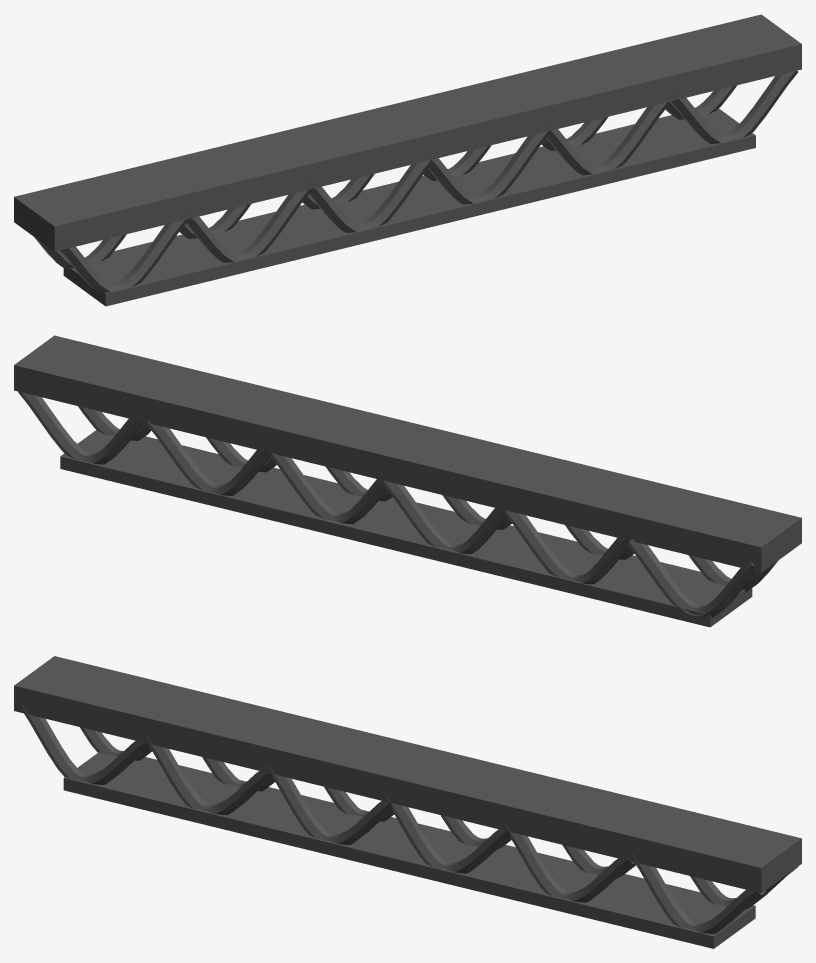
The model's file is Obstaculo 1.glb.
The picture shows the model from 3 angles, top to bottom: view 1: azimuth 30°, elevation 25°; view 2: azimuth 150°, elevation 25°; view 3: azimuth 330°, elevation 25°; orthographic projection.
Visible parts, largest first — view 1: mesh_id27, mesh_id64, mesh_id37, mesh_id43, mesh_id44, mesh_id50, mesh_id62, mesh_id56, mesh_id95, mesh_id107, mesh_id119, mesh_id101 (+2 smaller); view 2: mesh_id27, mesh_id64, mesh_id95, mesh_id113, mesh_id101, mesh_id107, mesh_id119, mesh_id125, mesh_id37, mesh_id43, mesh_id62, mesh_id44 (+2 smaller); view 3: mesh_id27, mesh_id64, mesh_id43, mesh_id37, mesh_id44, mesh_id62, mesh_id50, mesh_id56, mesh_id107, mesh_id125, mesh_id113, mesh_id101 (+2 smaller).
Part boxes in pixels (left/top/right/bottom): mesh_id27: left=14, top=14, right=801, bottom=251; mesh_id64: left=63, top=109, right=755, bottom=306; mesh_id37: left=60, top=218, right=187, bottom=294; mesh_id43: left=670, top=69, right=797, bottom=143; mesh_id44: left=186, top=188, right=310, bottom=262; mesh_id50: left=308, top=158, right=431, bottom=232; mesh_id62: left=544, top=101, right=669, bottom=175; mesh_id56: left=425, top=130, right=548, bottom=204; mesh_id95: left=34, top=234, right=126, bottom=271; mesh_id107: left=665, top=85, right=736, bottom=119; mesh_id119: left=302, top=173, right=374, bottom=209; mesh_id101: left=179, top=204, right=251, bottom=238; mesh_id27: left=14, top=335, right=801, bottom=572; mesh_id64: left=60, top=430, right=752, bottom=627; mesh_id95: left=627, top=539, right=756, bottom=617; mesh_id113: left=145, top=420, right=271, bottom=495; mesh_id101: left=504, top=510, right=630, bottom=584; mesh_id107: left=18, top=391, right=144, bottom=464; mesh_id119: left=383, top=481, right=506, bottom=554; mesh_id125: left=270, top=453, right=386, bottom=524; mesh_id37: left=688, top=555, right=778, bottom=591; mesh_id43: left=78, top=406, right=151, bottom=440; mesh_id62: left=206, top=437, right=276, bottom=472; mesh_id44: left=565, top=525, right=634, bottom=559; mesh_id27: left=14, top=656, right=801, bottom=893; mesh_id64: left=63, top=752, right=755, bottom=948; mesh_id43: left=632, top=854, right=765, bottom=933; mesh_id37: left=22, top=705, right=149, bottom=784; mesh_id44: left=145, top=735, right=272, bottom=815; mesh_id62: left=504, top=823, right=634, bottom=902; mesh_id50: left=268, top=765, right=391, bottom=844; mesh_id56: left=385, top=793, right=510, bottom=873; mesh_id107: left=690, top=867, right=797, bottom=909; mesh_id125: left=441, top=815, right=511, bottom=849; mesh_id113: left=562, top=845, right=635, bottom=878; mesh_id101: left=202, top=757, right=274, bottom=791.
Size of the model in its own units: 0.5433 by 0.0638 by 0.0535.
Materials: 8 (8 with a texture image).
